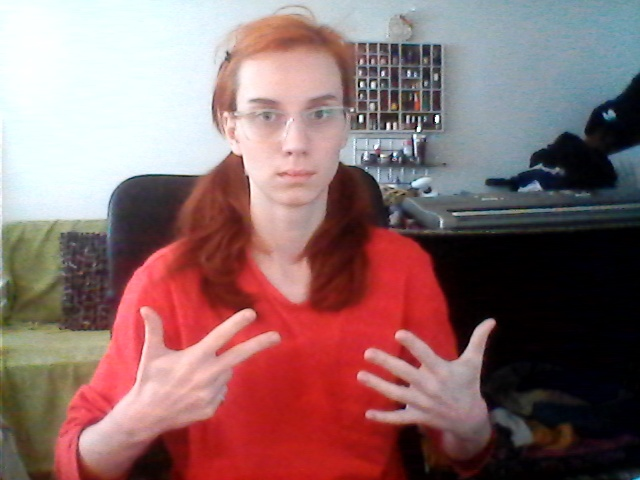osem: (128, 298, 514, 436)
